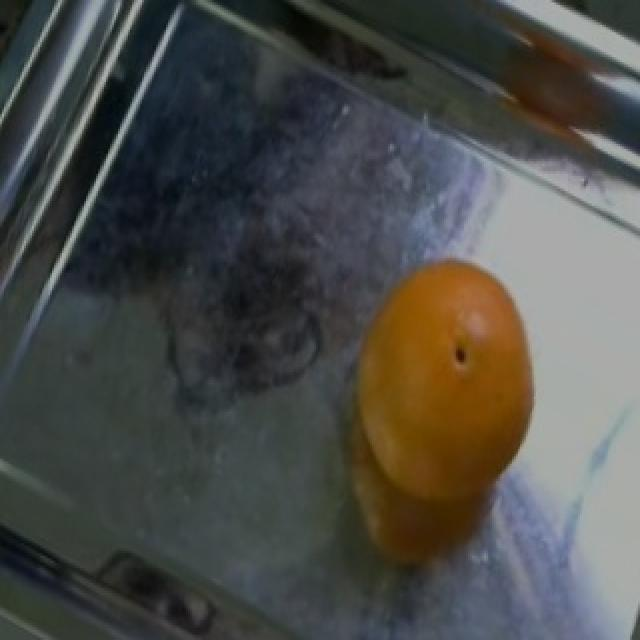Fruit: (326, 238, 564, 573)
